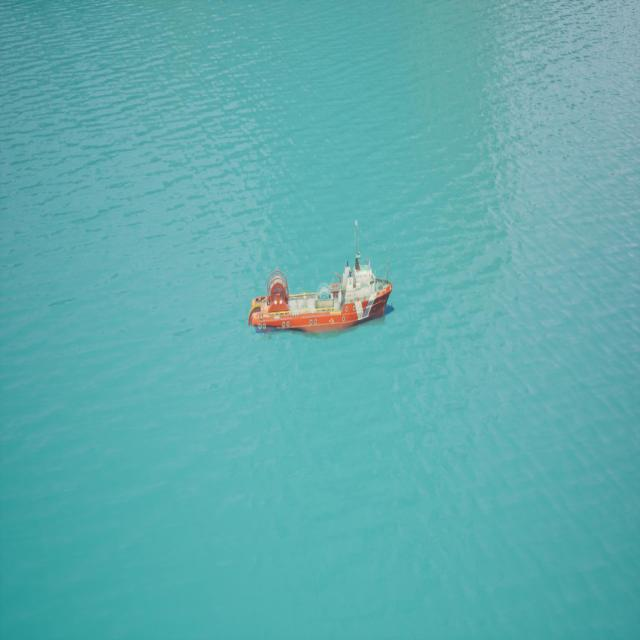tug boat: (249, 220, 396, 340)
